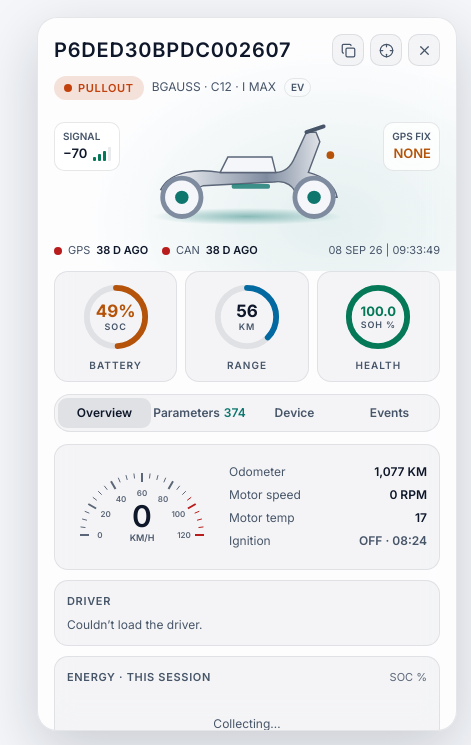
Scenario: F07-T5: vehicle details panel › events empty state
Click the tab "Events" at point(390, 413), box [343,398,436,428]
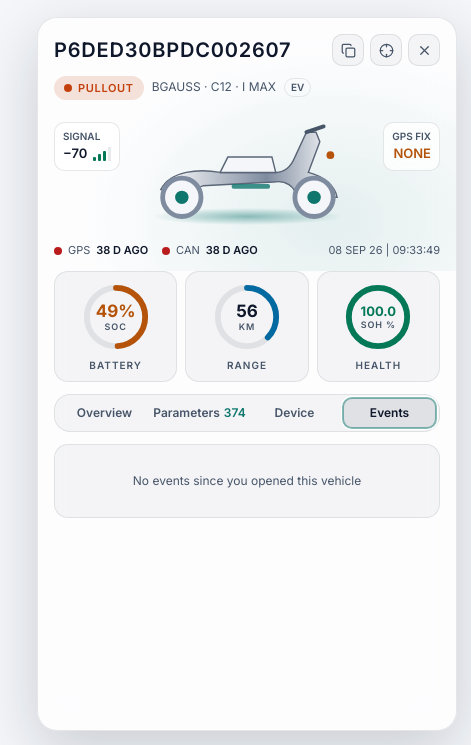
Result: the text with test id "events-empty" reads "No events since you opened this vehicle" at [133,473,361,488]
